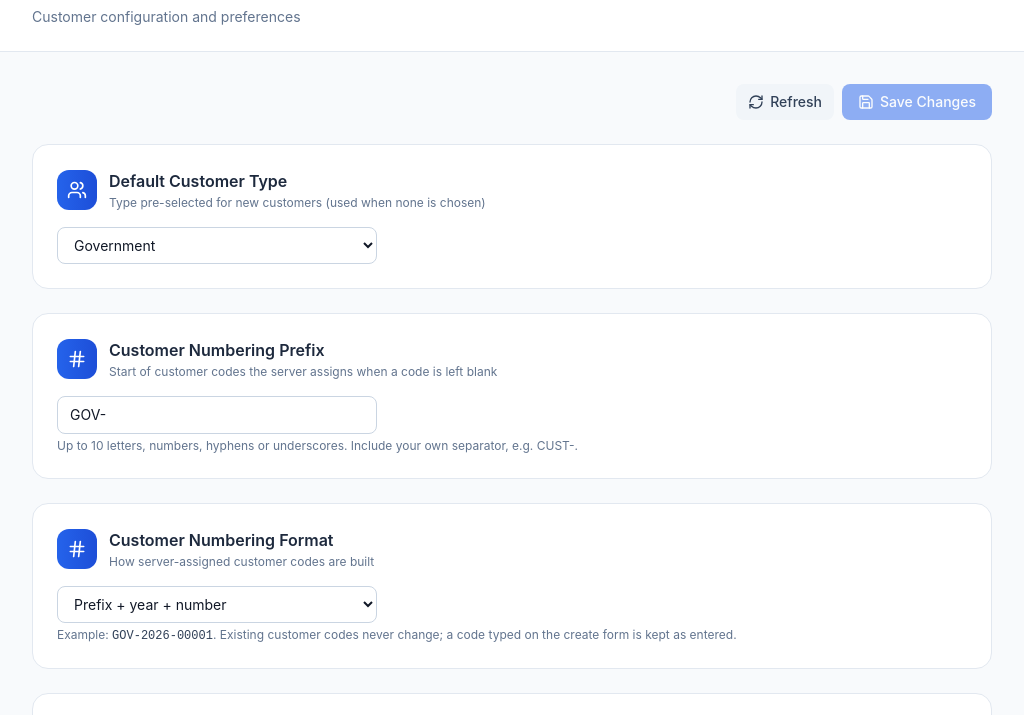
BUG-13 Customer Settings controls › accepts typing in the prefix, shows a live example, and saves canonical values
Replace the text in the field labelled "Customer Numbering Prefix" with "C-" at (217, 415), box [57, 396, 377, 434]
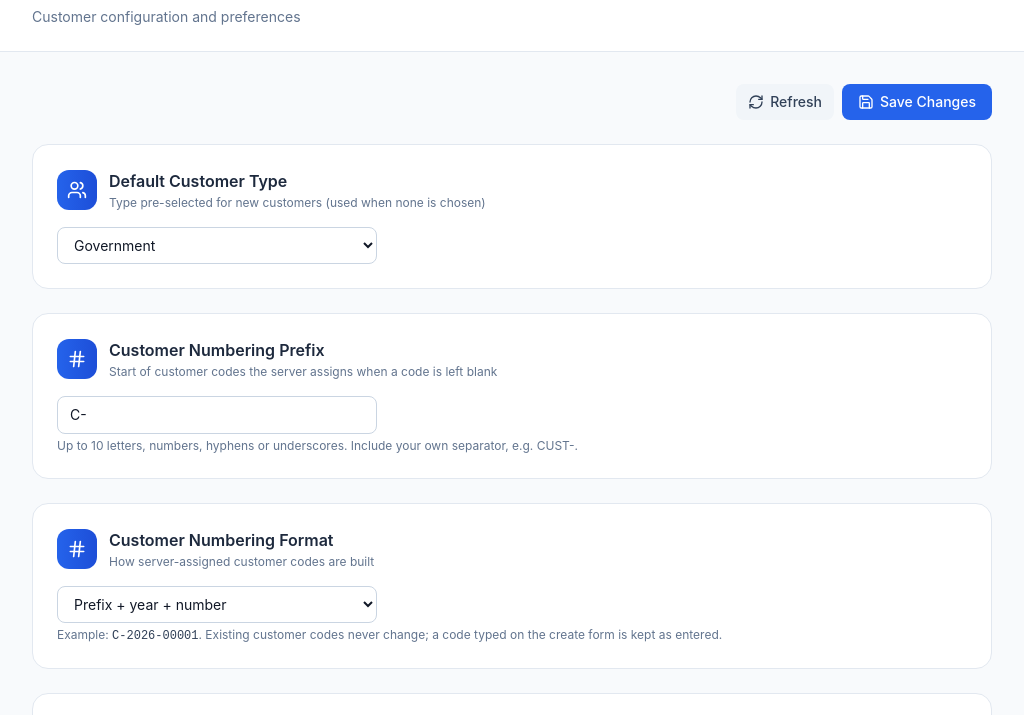
Select "Prefix + number" in the dropdown labelled "Customer Numbering Format" at (217, 604), box [57, 586, 377, 623]
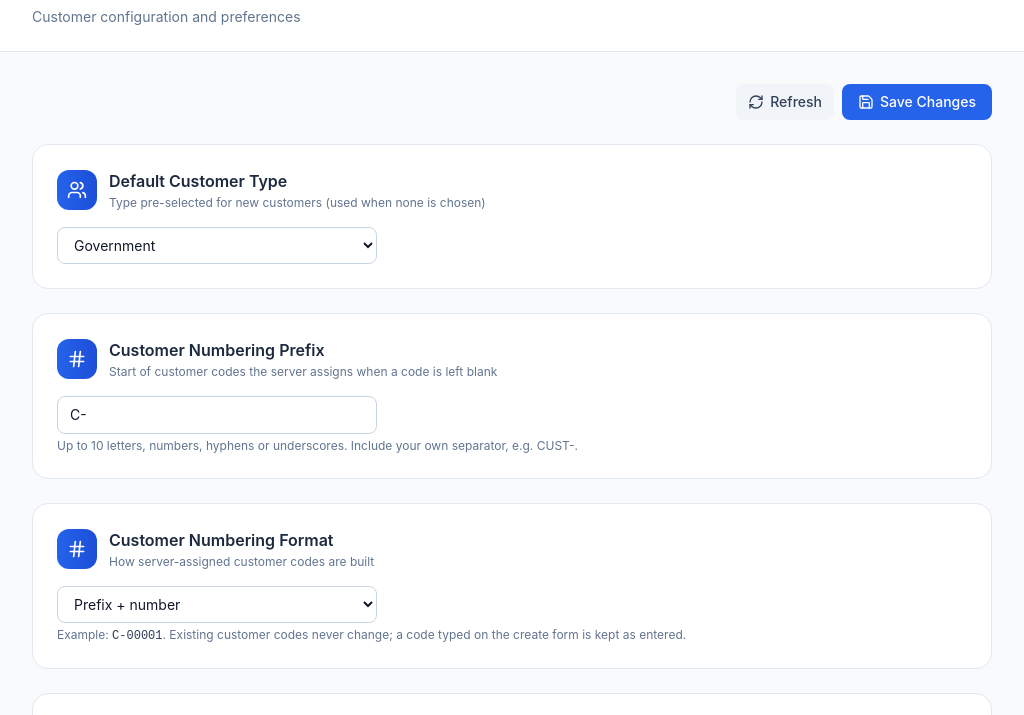
Select "Individual" in the dropdown labelled "Default Customer Type" at (217, 246), box [57, 227, 377, 264]
(page scrolled)
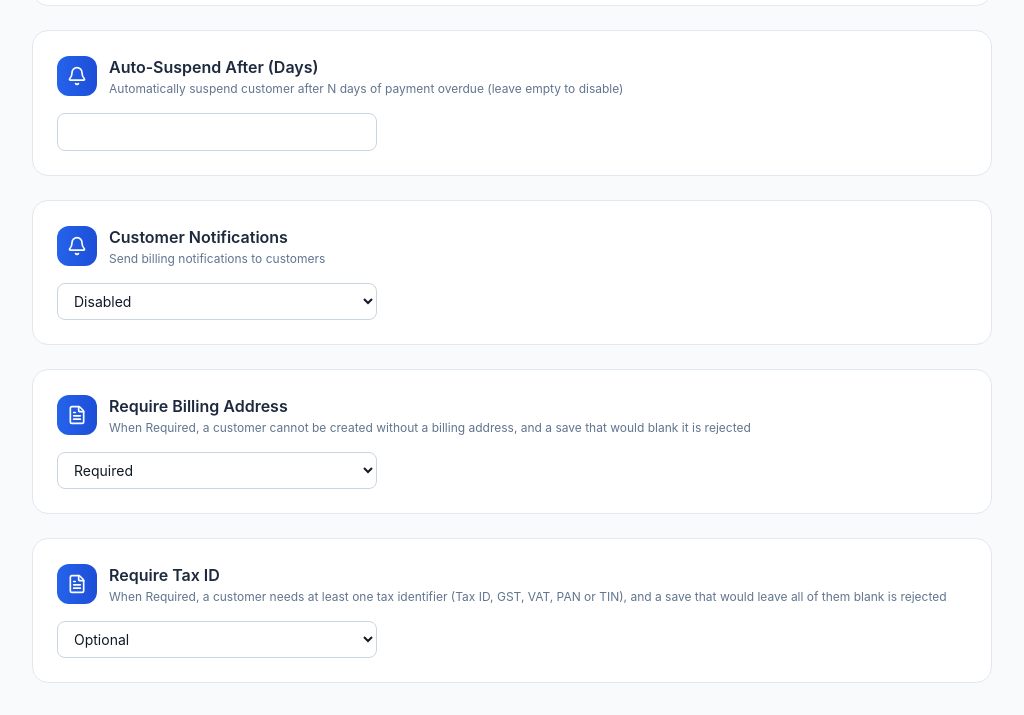
Select "Required" in the dropdown labelled "Require Tax ID" at (217, 640), box [57, 621, 377, 658]
(page scrolled)
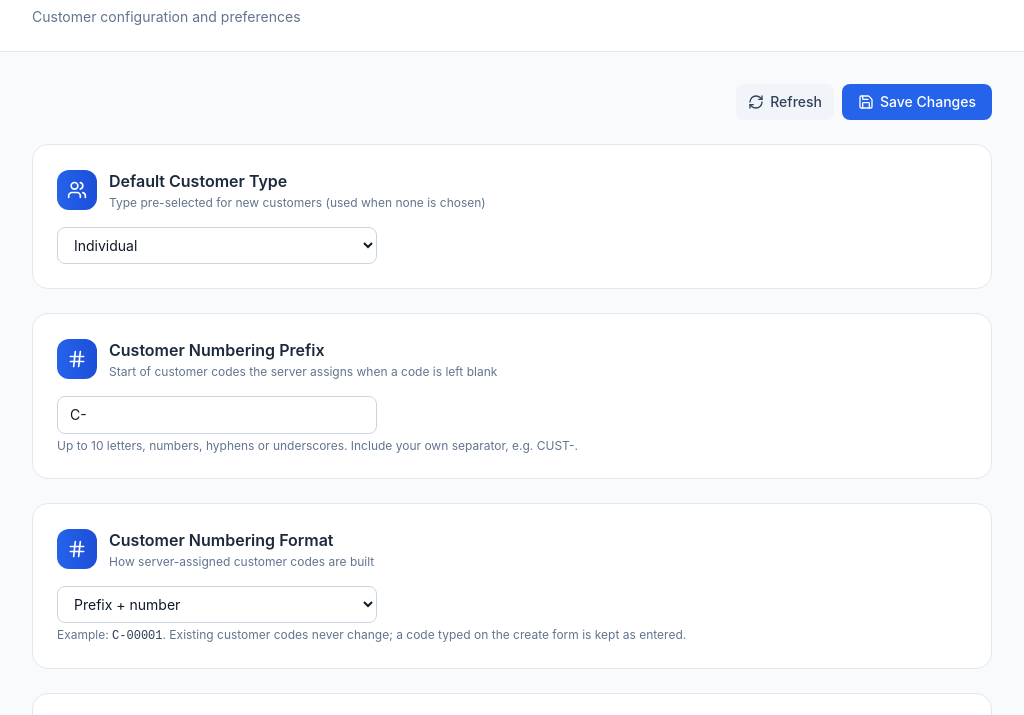
Now the text "C-00001" is shown, box [112, 629, 162, 643]
Now the button "Save Changes" is enabled
Click the button "Save Changes".
click(917, 102)  # box [842, 84, 992, 120]
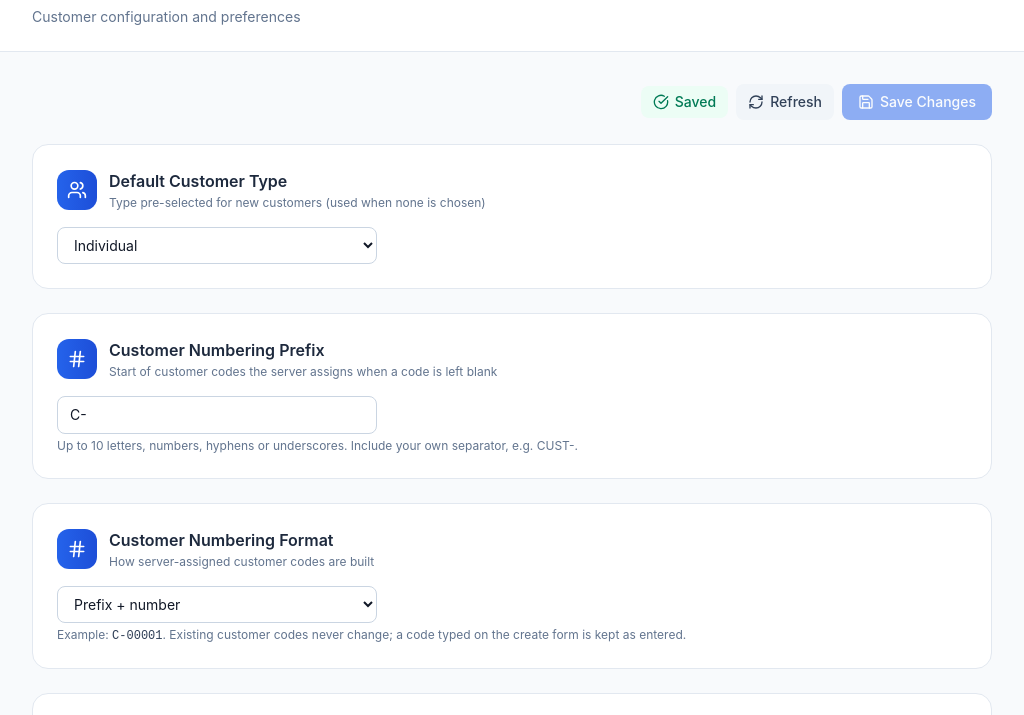
Now the button "Save Changes" is disabled, box [842, 84, 992, 120]
